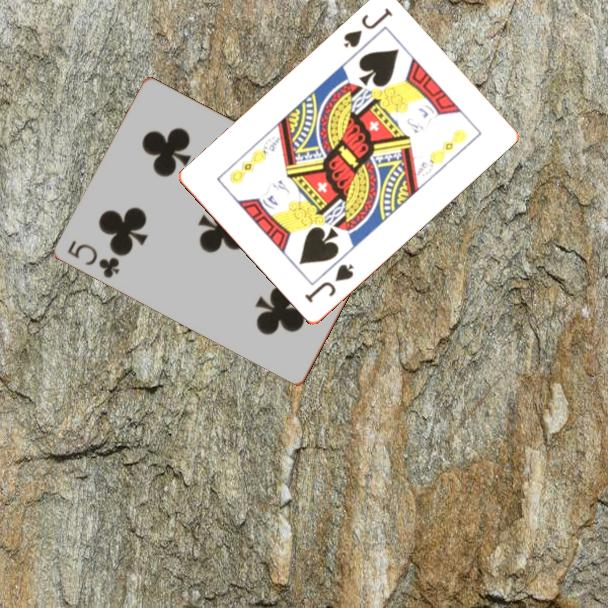c05: (64, 237, 123, 281)
s11: (301, 261, 357, 307), (340, 5, 396, 51)
